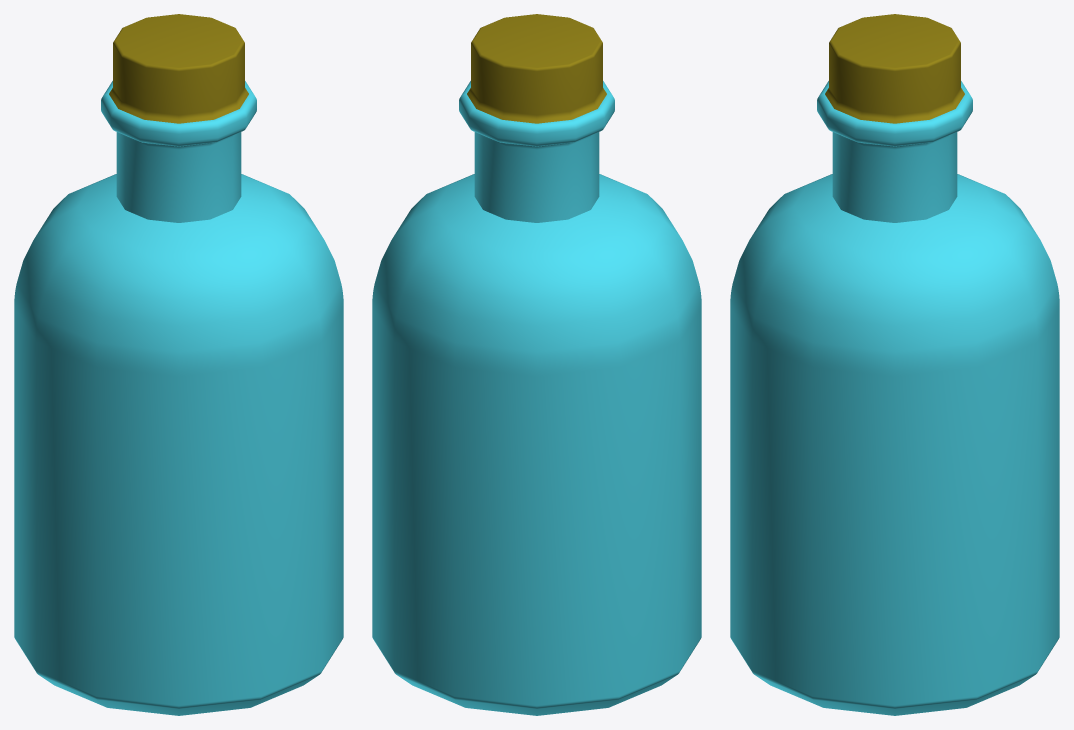
The model's file is potion10.FBX.
The picture shows the model from 3 angles, left to right: view 1: azimuth 30°, elevation 25°; view 2: azimuth 150°, elevation 25°; view 3: azimuth 270°, elevation 25°; orthographic projection.
Parts seen in each view (by area): view 1: potion_10glass; view 2: potion_10glass; view 3: potion_10glass.
Part boxes in pixels (bbox=[...]): potion_10glass: bbox=[14, 14, 343, 715]; potion_10glass: bbox=[372, 14, 701, 715]; potion_10glass: bbox=[730, 14, 1059, 715].
Bounding box in the file's own units: 23.29 × 47.98 × 23.29.
